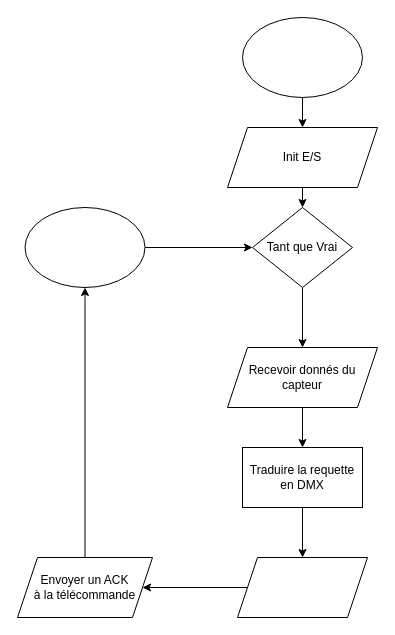
This 395x635 diagram has some shape labels left out. Here are the shapes that lost their labels. From the top down, the centre of each, then its label:
At [302,57]: "Start".
At [84,247]: "End".
At [302,587]: "Envoyer a la chaine DMX".
